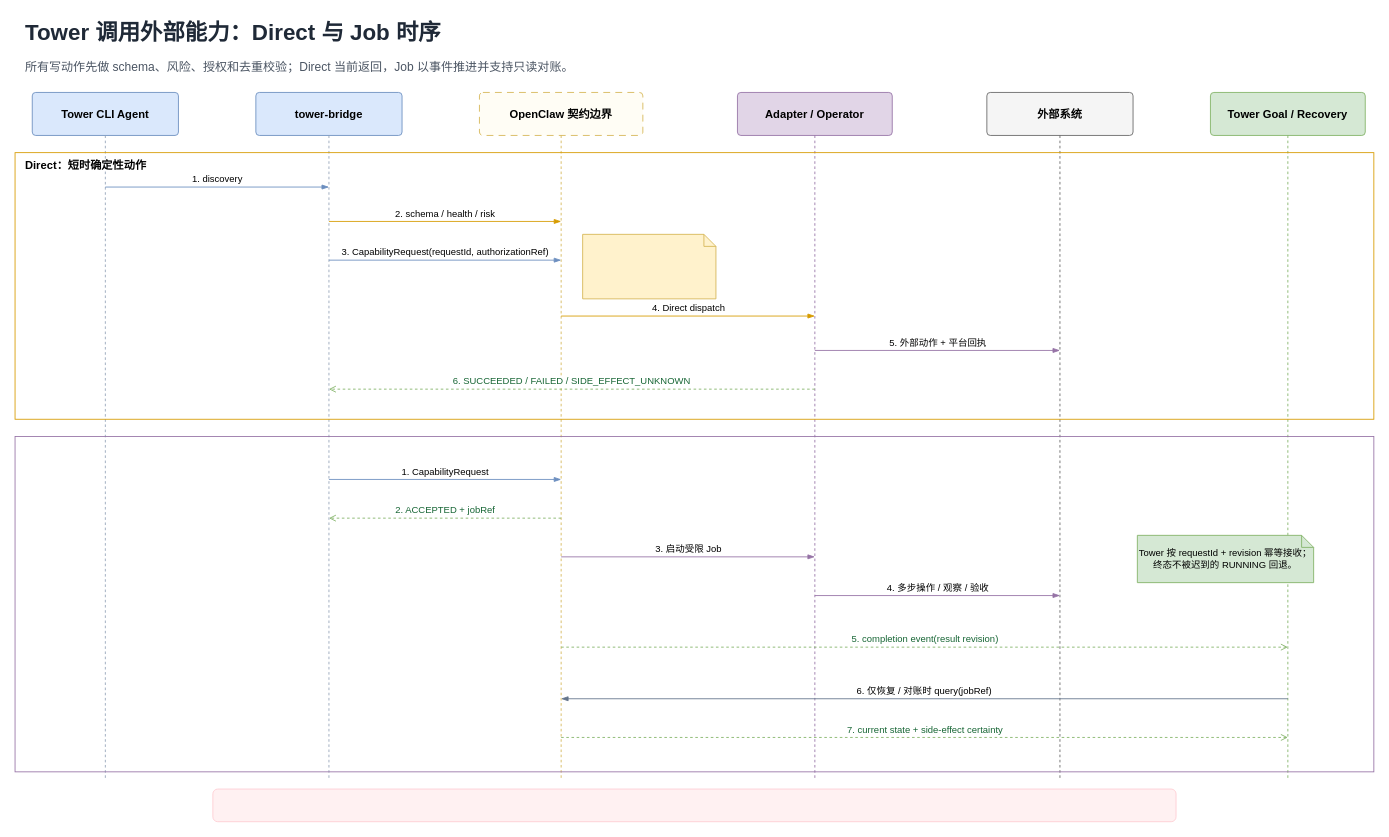
Image size: 1389x837. Some labels were removed from this diagram. Here are the shapes that lost their labels. From the top down, the box of each, then its label:
(582, 233, 716, 299): 校验 schema / 风险 / 授权 / 去重 失败即 fail-closed
(14, 436, 1374, 772): Job：多步 Operator / GUI / 跨调用超时
(212, 788, 1176, 822): 禁止：超时后切旧路径重试；SIDE_EFFECT_UNKNOWN 自动重试；Tower 高频轮询或复制 OpenClaw Job 状态机。
